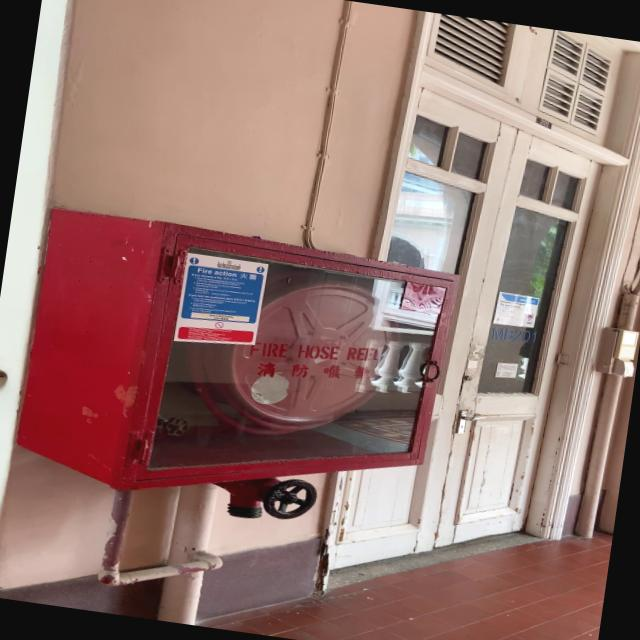room201: (533, 114, 553, 130)
room201Window: (490, 326, 540, 344)
